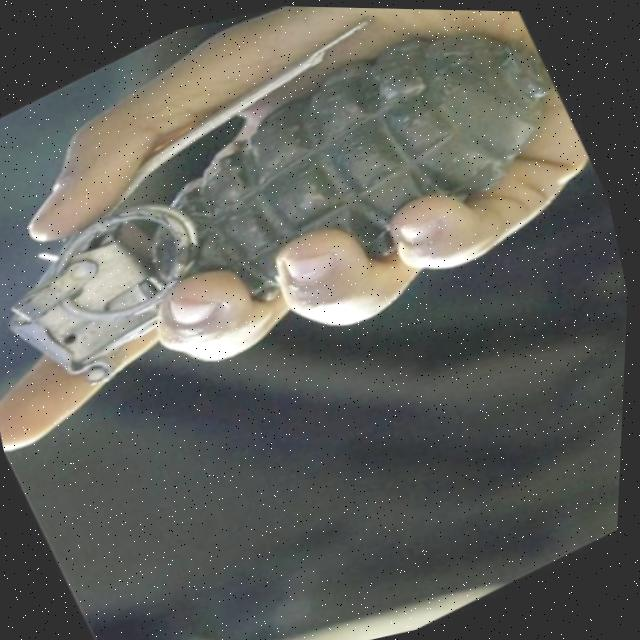grenade: (0, 0, 628, 451)
